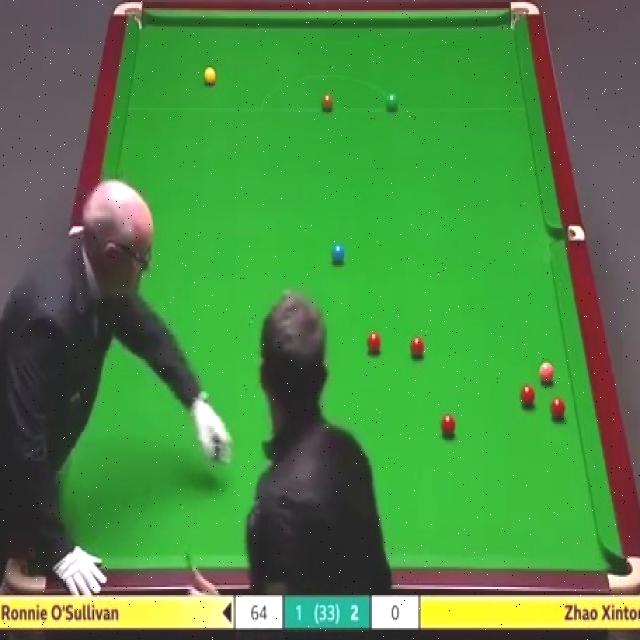blue-ball: (332, 243, 344, 266)
brown-ball: (321, 94, 334, 112)
green-ball: (386, 92, 398, 112)
pink-ball: (539, 360, 556, 386)
red-ball: (439, 413, 457, 438), (410, 333, 426, 359), (366, 331, 381, 355), (520, 385, 536, 407), (552, 399, 566, 421)
yellow-ball: (203, 67, 218, 88)
